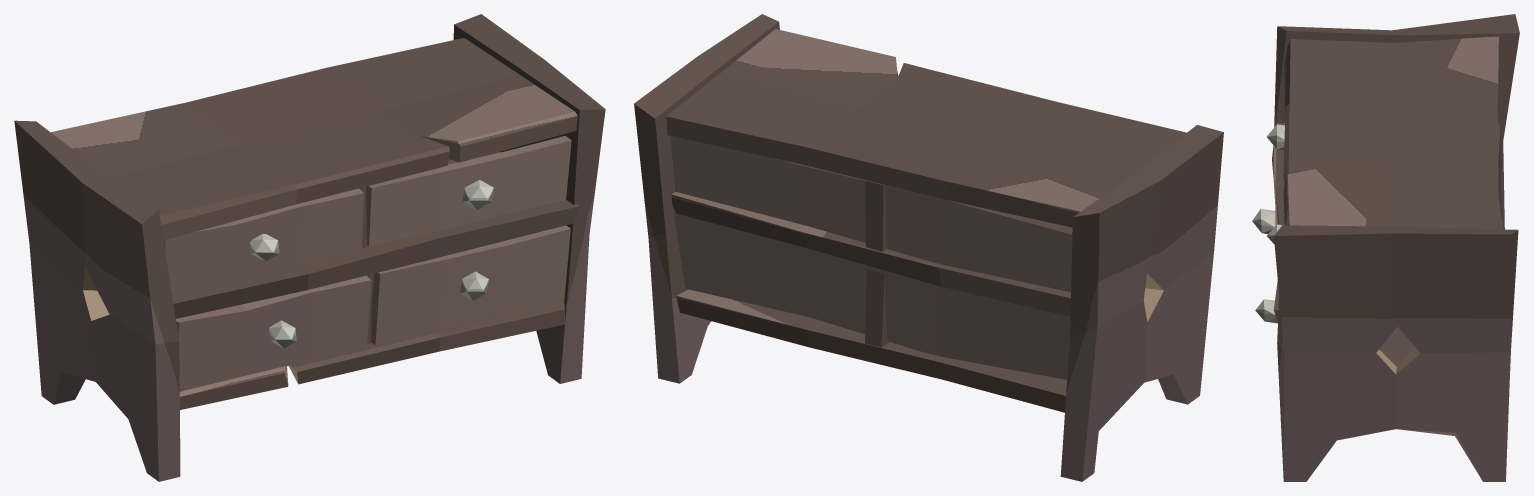
File: Wardrobe_004.fbx
The picture shows the model from 3 angles, left to right: view 1: azimuth 30°, elevation 25°; view 2: azimuth 150°, elevation 25°; view 3: azimuth 270°, elevation 25°; orthographic projection. The views are drawn at different scales.
Visible parts, largest first — view 1: Wardrobe_004; view 2: Wardrobe_004; view 3: Wardrobe_004.
Part boxes in pixels (x1=…): Wardrobe_004: x1=14, y1=14, x2=605, y2=481; Wardrobe_004: x1=634, y1=14, x2=1223, y2=481; Wardrobe_004: x1=1252, y1=14, x2=1519, y2=481.
Bounding box in the file's own units: 128 × 72.69 × 67.24.
1 material, 1 textured.
